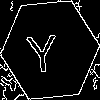Y: (25, 25, 59, 74)
